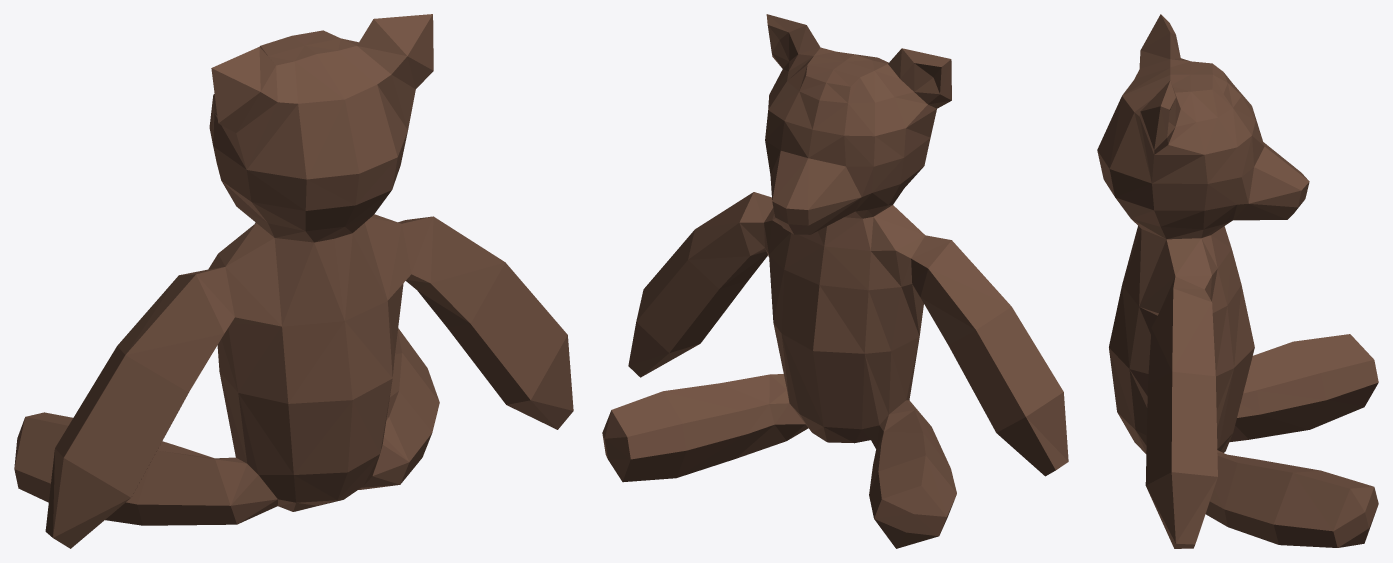
File: teddyBear.fbx
3 views of the same model, side by side, from view 1: azimuth 30°, elevation 25°; view 2: azimuth 150°, elevation 25°; view 3: azimuth 270°, elevation 25° (orthographic). The views are drawn at different scales.
Visible parts, largest first — view 1: teddySafe; view 2: teddySafe; view 3: teddySafe.
Boxes of the visible parts, left/top/right/bottom form: teddySafe: left=14, top=14, right=573, bottom=548; teddySafe: left=602, top=14, right=1068, bottom=548; teddySafe: left=1097, top=14, right=1378, bottom=548.
Bounding box in the file's own units: 598 × 551 × 329.
